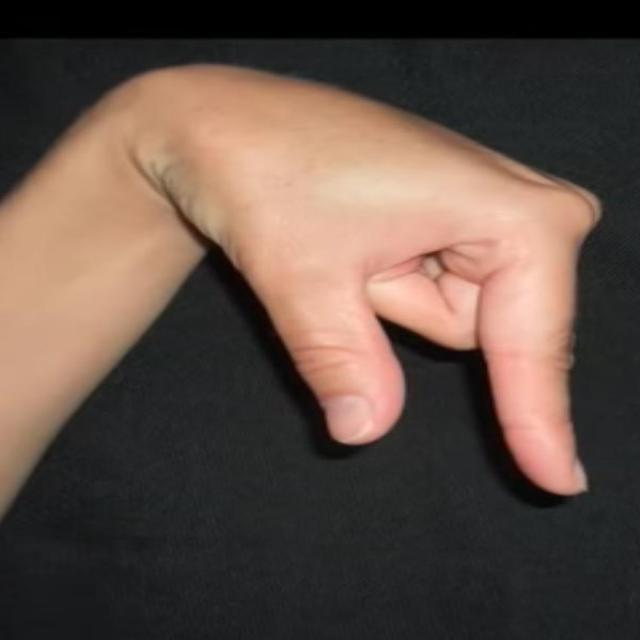Q: (108, 62, 607, 501)
